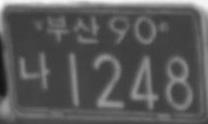0: (133, 15, 156, 46)
1: (58, 51, 87, 106)
2: (92, 52, 125, 108)
4: (130, 54, 159, 110)
8: (164, 56, 193, 111)
9: (107, 13, 131, 44)
나: (19, 51, 51, 91)
부산_O: (45, 14, 100, 44)
